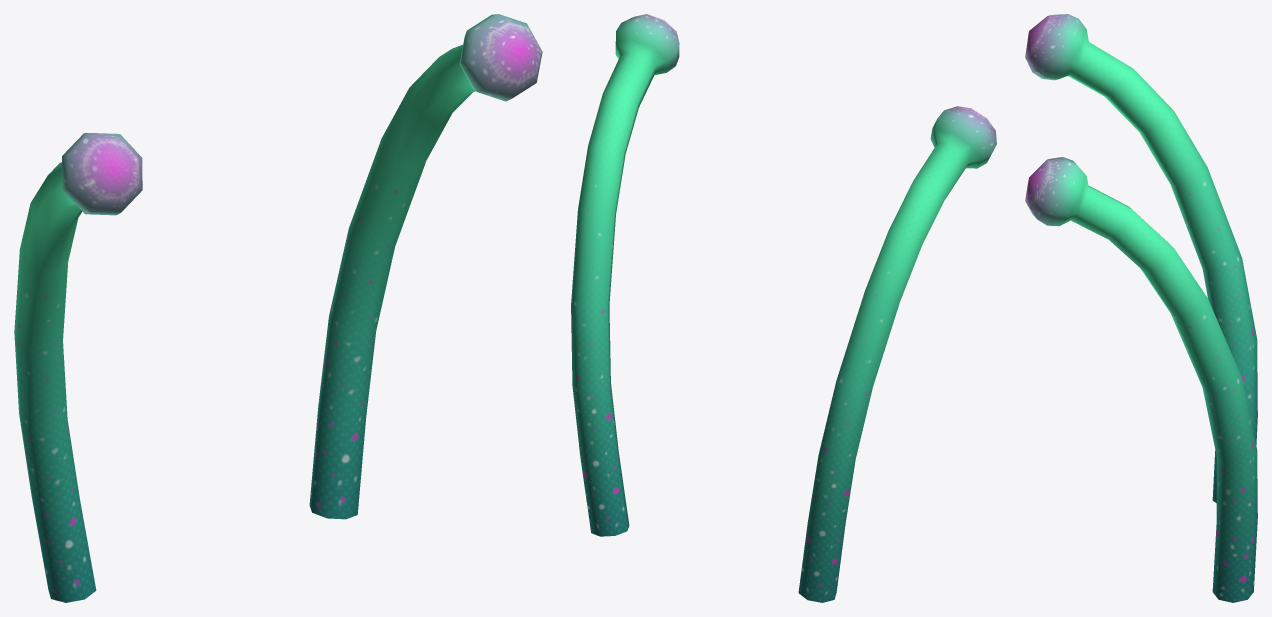
The model's file is antlers.fbx.
3 views of the same model, side by side, from view 1: azimuth 30°, elevation 25°; view 2: azimuth 150°, elevation 25°; view 3: azimuth 270°, elevation 25° (orthographic). The views are drawn at different scales.
Parts seen in each view (by area): view 1: antlers; view 2: antlers; view 3: antlers.
Part boxes in pixels (<box>): antlers: <box>14,14,542,602</box>; antlers: <box>571,14,996,602</box>; antlers: <box>1025,14,1257,602</box>.
Size of the model in its own units: 21.37 by 11.04 by 24.7.
